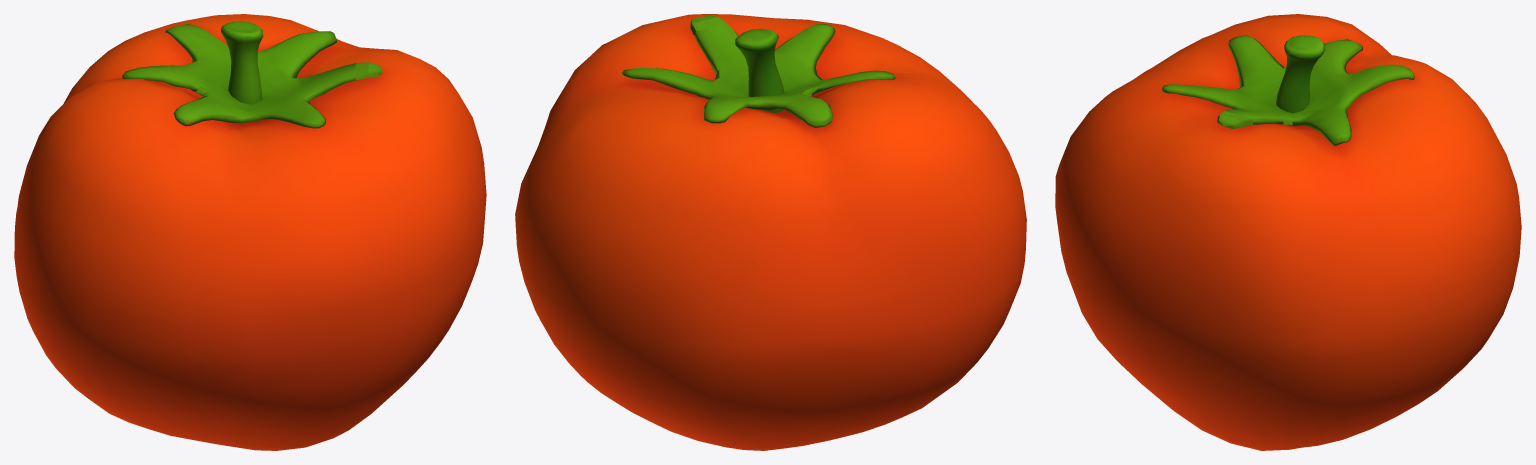
Rendered from XiHongShi.FBX.
The picture shows the model from 3 angles, left to right: view 1: azimuth 30°, elevation 25°; view 2: azimuth 150°, elevation 25°; view 3: azimuth 270°, elevation 25°; orthographic projection. The views are drawn at different scales.
Parts seen in each view (by area): view 1: XiHongShi; view 2: XiHongShi; view 3: XiHongShi.
Part boxes in pixels (x1,y1,x2,y2): XiHongShi: (14, 14, 486, 450); XiHongShi: (515, 14, 1026, 450); XiHongShi: (1055, 14, 1521, 450).
Size of the model in its own units: 111 by 100 by 108.
1 material, 1 textured.
